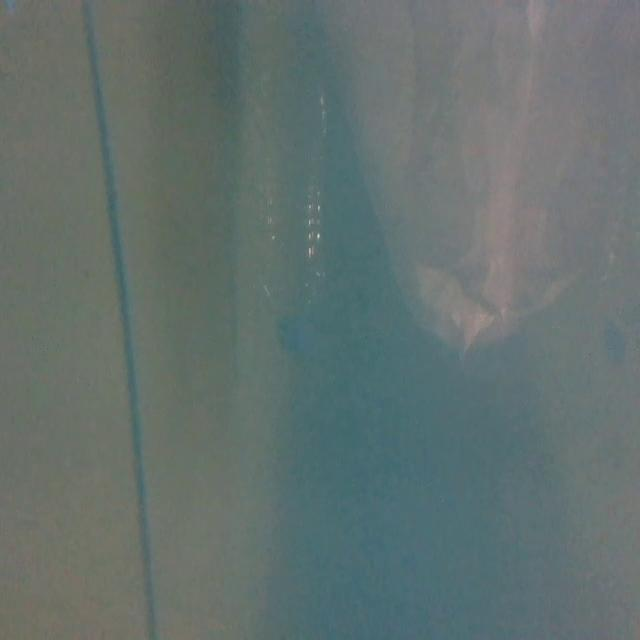plastic bags: (347, 0, 640, 444)
plastic bottle: (251, 58, 339, 389)
